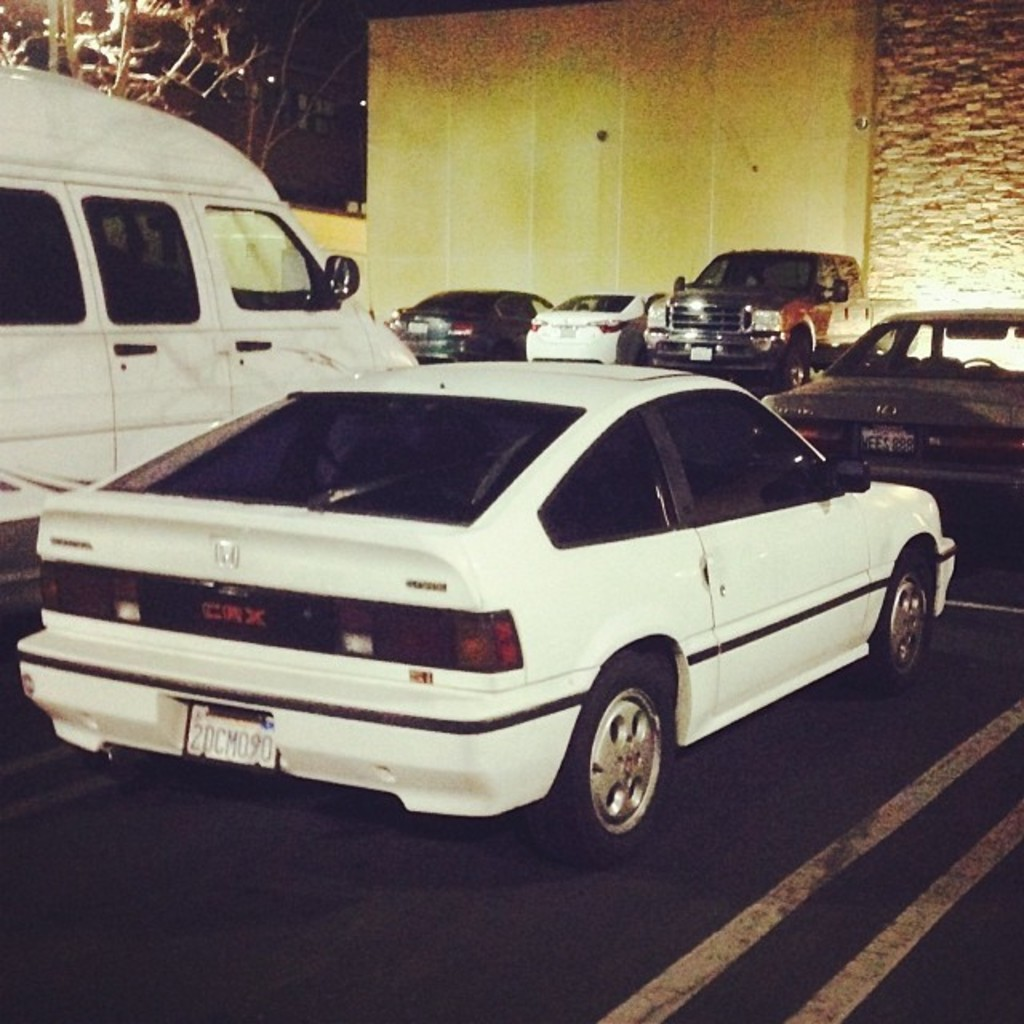person: (278, 409, 376, 492)
